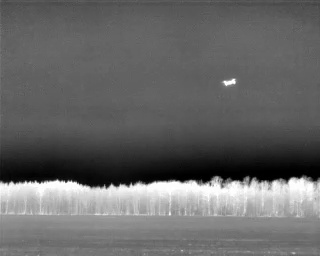DRONE: (219, 74, 241, 91)
